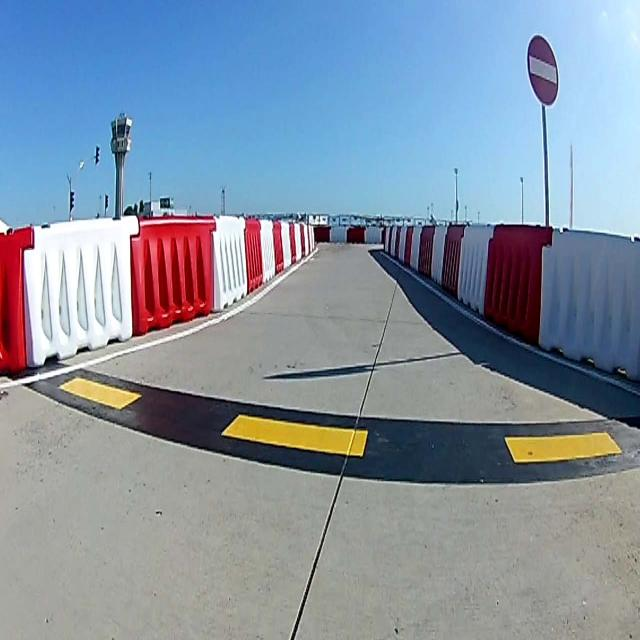girisyok: (526, 32, 560, 108)
